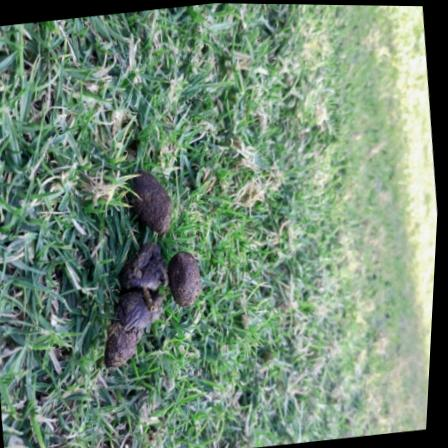dog-poop: (84, 166, 219, 376)
